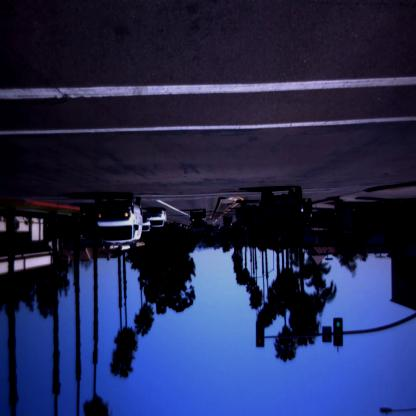trafficlight: (328, 312, 346, 352), (252, 314, 269, 352)
